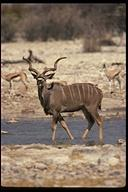antelope: (20, 53, 104, 143), (1, 67, 30, 94), (99, 62, 125, 92)
bush: (2, 12, 83, 44), (81, 31, 105, 54)
